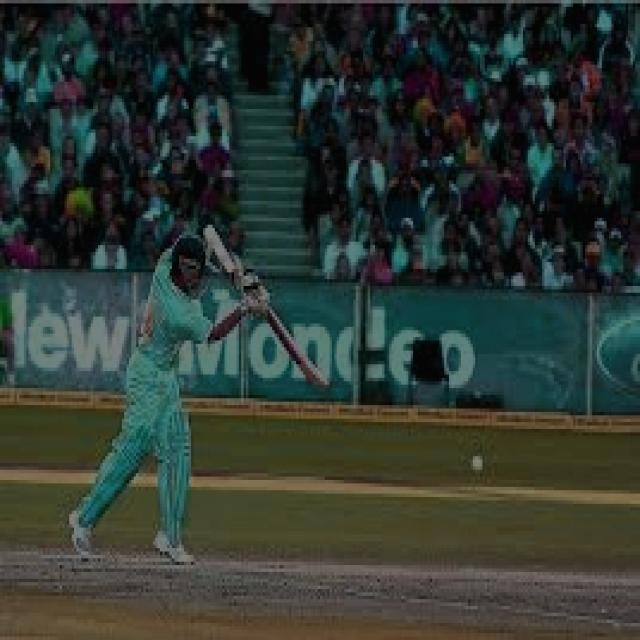bat: (254, 312, 331, 398)
